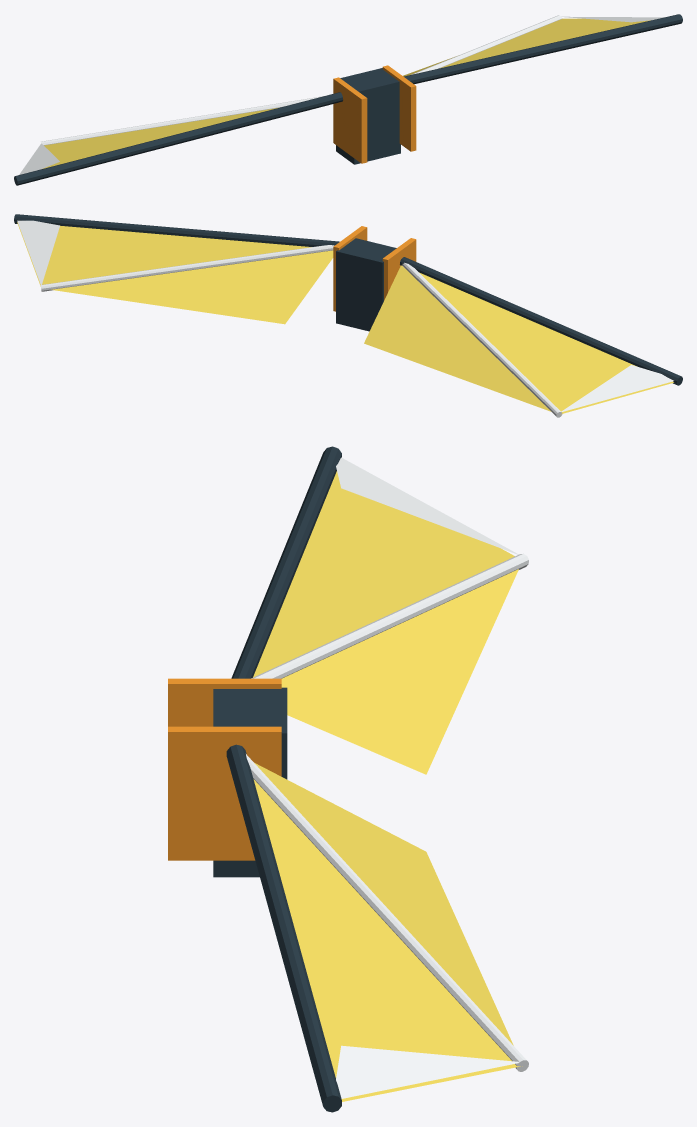
Rendered from flight-wing-cruiser.glb.
3 views of the same model, one above another, from view 1: azimuth 30°, elevation 25°; view 2: azimuth 150°, elevation 25°; view 3: azimuth 270°, elevation 25° (orthographic). The views are drawn at different scales.
Parts seen in each view (by area): view 1: Leading spar.004, Compact back harness.002, Leading spar.005, Low swept wing.004, Low swept wing.005, Harness strap.004, Harness strap.005, Wing rib.004, Wing rib.005, Wingtip flash.004, Wingtip flash.005; view 2: Low swept wing.005, Low swept wing.004, Compact back harness.002, Leading spar.004, Leading spar.005, Wing rib.005, Wingtip flash.004, Wing rib.004, Wingtip flash.005, Harness strap.004, Harness strap.005; view 3: Low swept wing.004, Low swept wing.005, Harness strap.005, Leading spar.005, Wingtip flash.005, Leading spar.004, Wing rib.005, Compact back harness.002, Wing rib.004, Wingtip flash.004, Harness strap.004.
Boxes of the visible parts, x1,y1,x2,y2 form: Leading spar.004: (14, 92, 343, 185); Compact back harness.002: (336, 68, 400, 164); Leading spar.005: (404, 14, 682, 84); Low swept wing.004: (42, 107, 278, 168); Low swept wing.005: (403, 18, 650, 76); Harness strap.004: (333, 77, 367, 163); Harness strap.005: (382, 65, 416, 151); Wing rib.004: (41, 96, 322, 145); Wing rib.005: (411, 15, 562, 74); Wingtip flash.004: (19, 143, 59, 174); Wingtip flash.005: (561, 16, 663, 22); Low swept wing.005: (17, 222, 333, 324); Low swept wing.004: (364, 265, 673, 414); Compact back harness.002: (336, 238, 396, 331); Leading spar.004: (400, 257, 682, 385); Leading spar.005: (14, 214, 339, 246); Wing rib.005: (40, 245, 334, 291); Wingtip flash.004: (561, 365, 673, 411); Wing rib.004: (402, 262, 562, 417); Wingtip flash.005: (17, 220, 59, 284); Harness strap.004: (382, 238, 416, 300); Harness strap.005: (333, 226, 367, 311); Low swept wing.004: (253, 471, 518, 774); Low swept wing.005: (253, 763, 522, 1101); Harness strap.005: (168, 726, 281, 860); Leading spar.005: (226, 744, 341, 1112); Wingtip flash.005: (336, 1045, 519, 1098); Leading spar.004: (231, 446, 341, 678); Wing rib.005: (246, 754, 528, 1071); Compact back harness.002: (213, 687, 287, 877); Wing rib.004: (251, 553, 528, 678); Wingtip flash.004: (336, 457, 518, 554); Harness strap.004: (168, 678, 281, 726).
Size of the model in its own units: 5.41 by 0.58 by 1.27.
